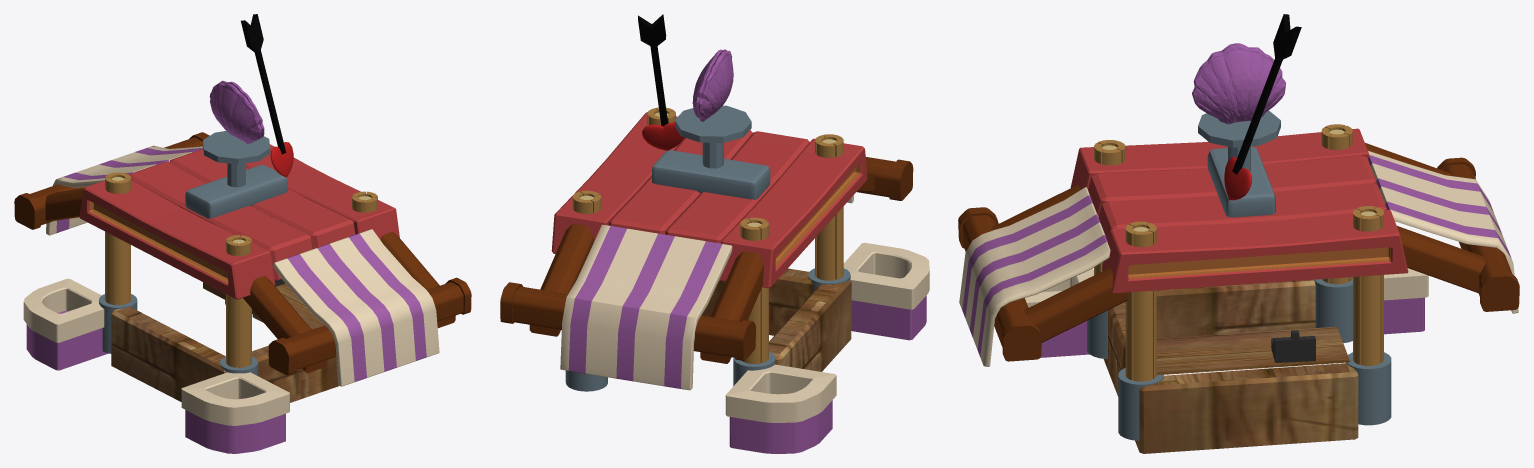
The model's file is Market_valentines_building.glb.
3 views of the same model, side by side, from view 1: azimuth 30°, elevation 25°; view 2: azimuth 150°, elevation 25°; view 3: azimuth 270°, elevation 25° (orthographic). The views are drawn at different scales.
Size of the model in its own units: 0.092 by 0.0994 by 0.1289.
Materials: 13 (2 with a texture image).
